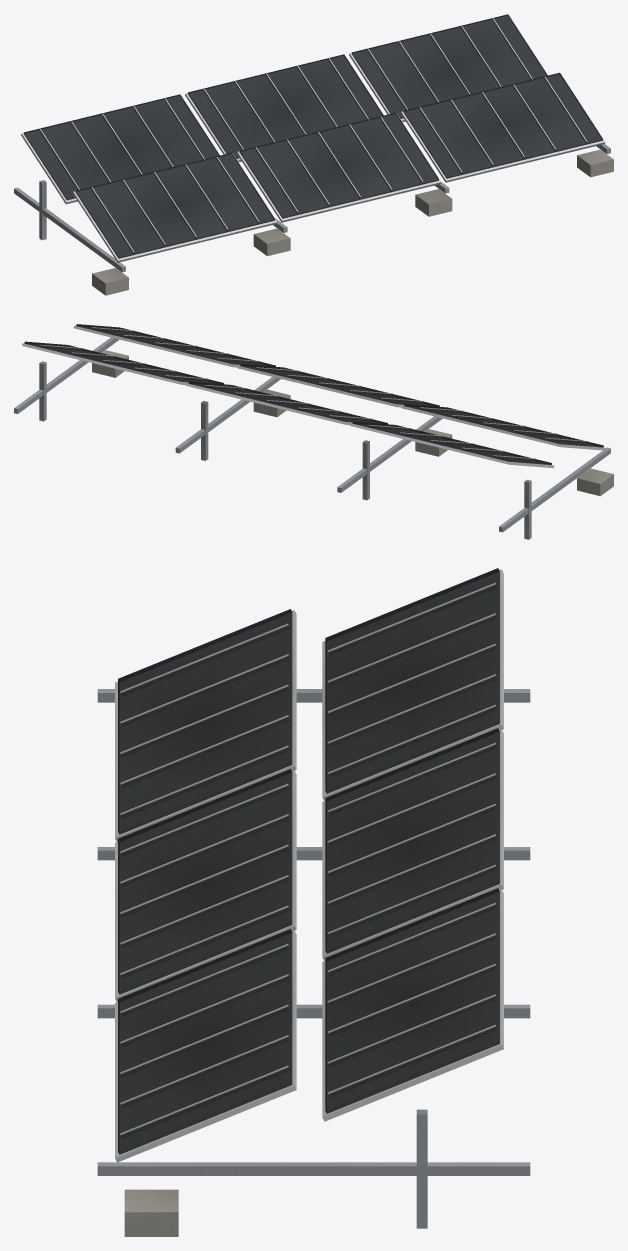
File: roof_solar.glb
3 renders of one model, top to bottom at view 1: azimuth 30°, elevation 25°; view 2: azimuth 150°, elevation 25°; view 3: azimuth 270°, elevation 25°, orthographic. The views are drawn at different scales.
Visible parts, largest first — view 1: roof_solar_aluminium, roof_solar_glass_dark, roof_solar_concrete, roof_solar_galvanised; view 2: roof_solar_aluminium, roof_solar_glass_dark, roof_solar_galvanised, roof_solar_concrete; view 3: roof_solar_aluminium, roof_solar_glass_dark, roof_solar_galvanised, roof_solar_concrete.
Part boxes in pixels (box(x1,y1,x2,y2)): roof_solar_aluminium: box(21, 15, 605, 262); roof_solar_glass_dark: box(23, 14, 602, 258); roof_solar_concrete: box(92, 149, 613, 295); roof_solar_galvanised: box(14, 144, 610, 272); roof_solar_aluminium: box(22, 325, 606, 468); roof_solar_glass_dark: box(24, 324, 603, 464); roof_solar_galvanised: box(14, 337, 610, 539); roof_solar_concrete: box(92, 350, 613, 496); roof_solar_aluminium: box(115, 569, 503, 1162); roof_solar_glass_dark: box(118, 568, 499, 1154); roof_solar_galvanised: box(97, 689, 530, 1228); roof_solar_concrete: box(124, 1189, 178, 1236).
Size of what is drawn, in the model's own units: 6.51 by 1.13 by 2.4.
Materials: 4 (3 with a texture image).
